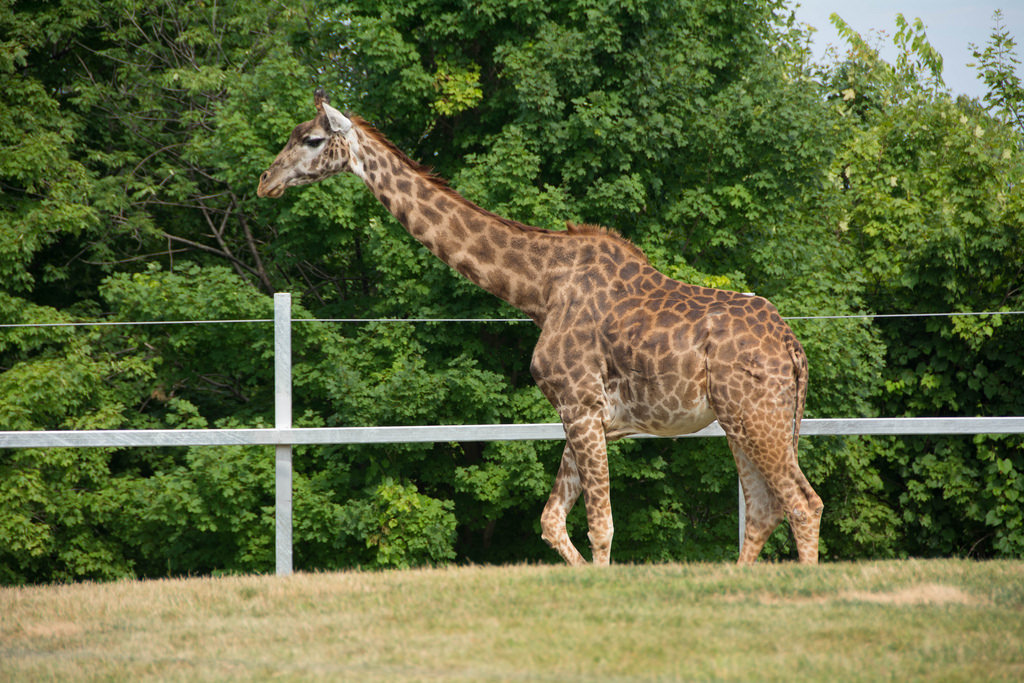giraffe: (264, 96, 856, 571)
